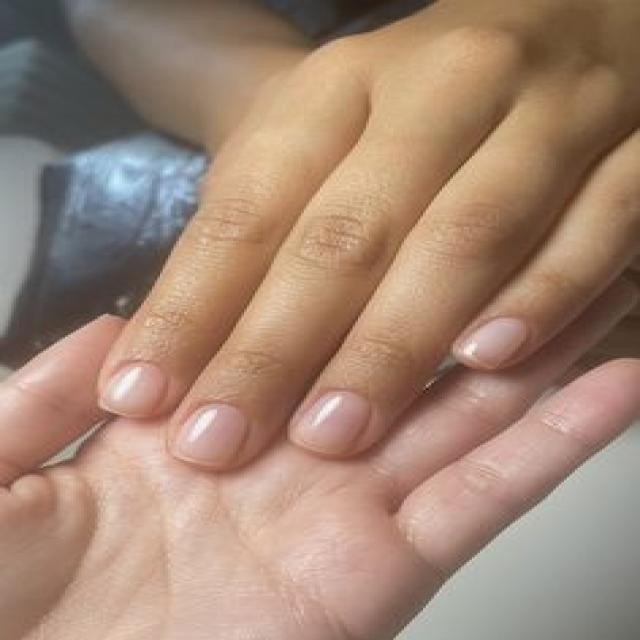Fingernail: (293, 391, 369, 454), (175, 404, 247, 464), (103, 364, 165, 416), (461, 318, 525, 366)
